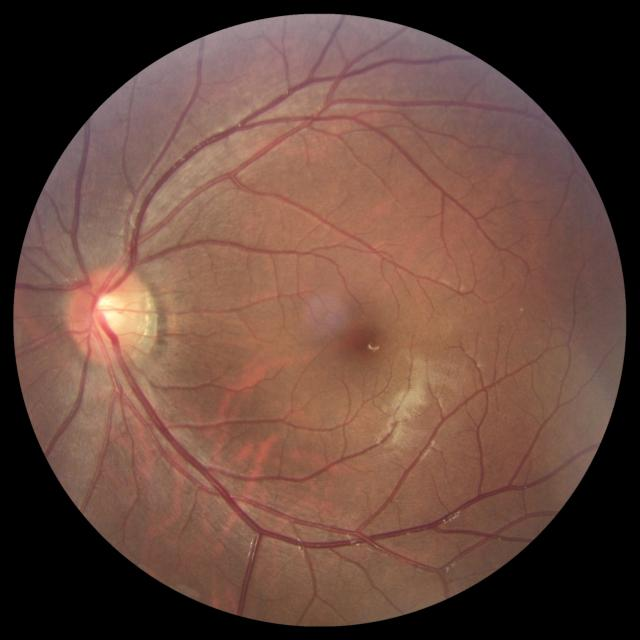OC: (90, 292, 128, 331)
OD: (68, 265, 152, 363)
